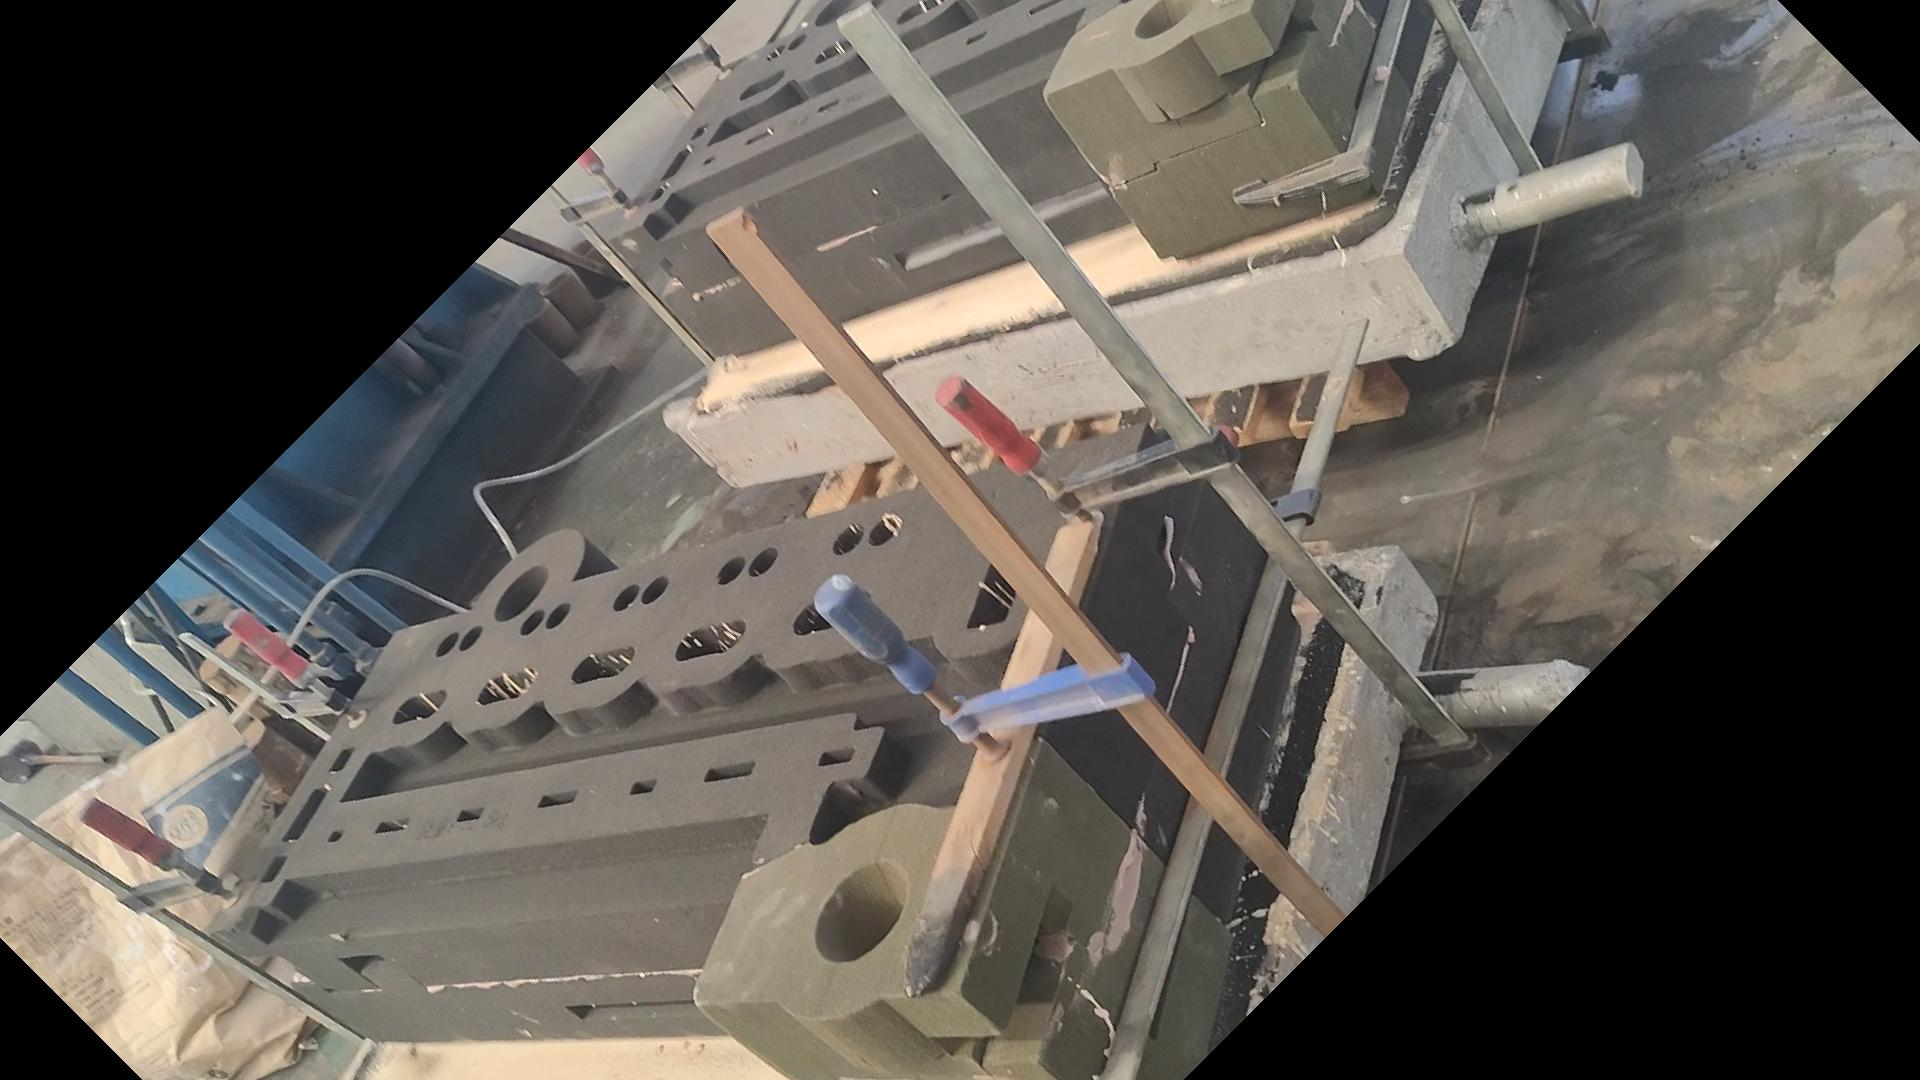pouring hole: (814, 858, 909, 963), (493, 564, 549, 621), (1131, 1, 1193, 40), (810, 1, 855, 26), (568, 235, 596, 260), (520, 295, 549, 318), (543, 272, 570, 291), (518, 278, 543, 293)
